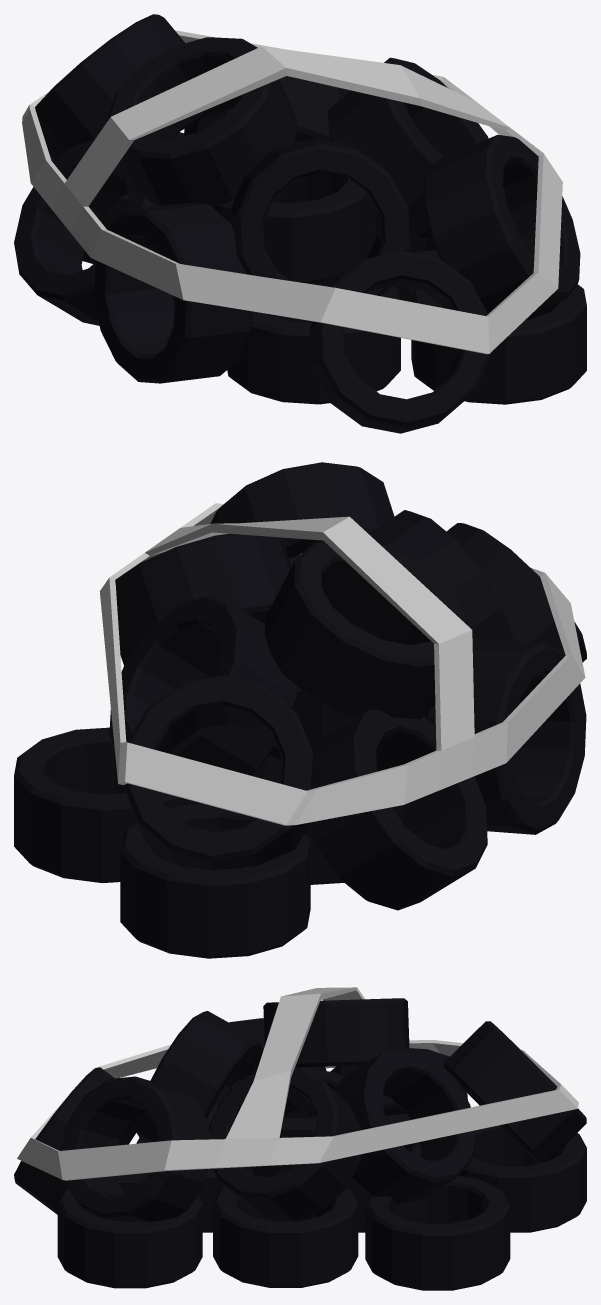
File: BunchOfTires.fbx
3 renders of one model, top to bottom at view 1: azimuth 30°, elevation 25°; view 2: azimuth 150°, elevation 25°; view 3: azimuth 270°, elevation 25°, orthographic. The views are drawn at different scales.
Parts seen in each view (by area): view 1: BunchOfTires; view 2: BunchOfTires; view 3: BunchOfTires.
Boxes of the visible parts, <box> form: BunchOfTires: <box>14,14,586,433</box>; BunchOfTires: <box>14,462,586,958</box>; BunchOfTires: <box>14,987,586,1290</box>.
Bounding box in the file's own units: 1.5 × 1 × 2.3.
